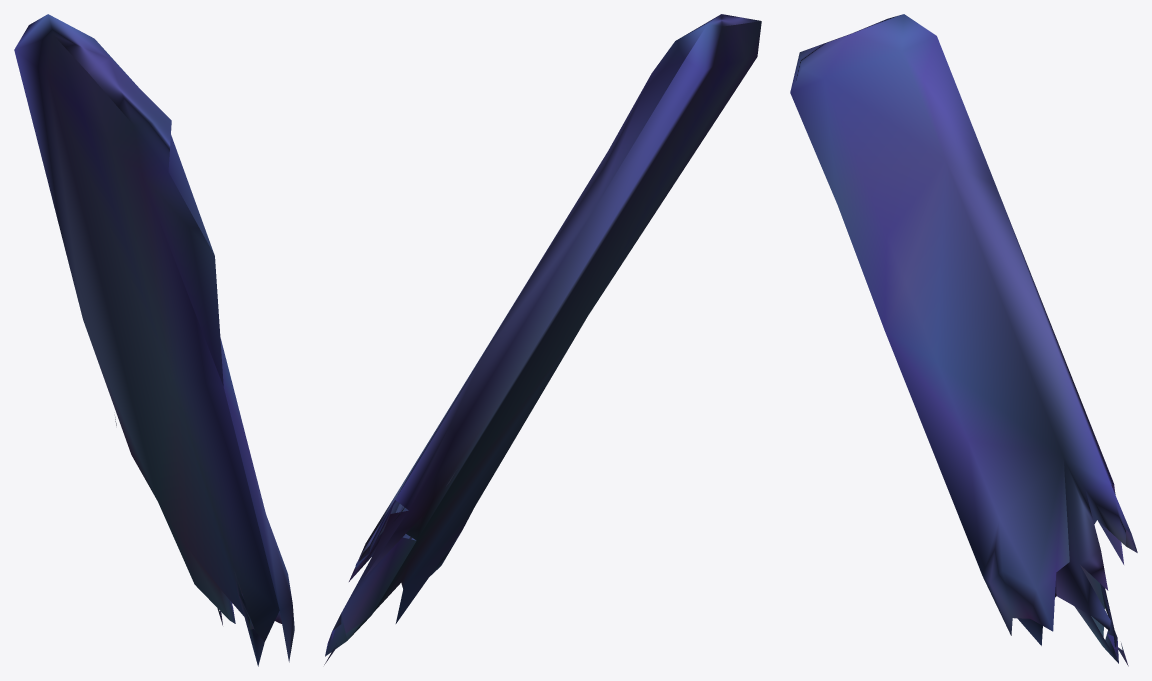
Rendered from microscopic-dust-particles-glass-shard_v3.glb.
3 views of the same model, side by side, from view 1: azimuth 30°, elevation 25°; view 2: azimuth 150°, elevation 25°; view 3: azimuth 270°, elevation 25° (orthographic). The views are drawn at different scales.
Parts seen in each view (by area): view 1: Glass Shard_v3; view 2: Glass Shard_v3; view 3: Glass Shard_v3.
Boxes of the visible parts, x1,y1,x2,y2 form: Glass Shard_v3: (14, 14, 294, 666); Glass Shard_v3: (324, 14, 761, 664); Glass Shard_v3: (790, 14, 1137, 666).
Bounding box in the file's own units: 0.2327 × 0.5 × 0.2907.
